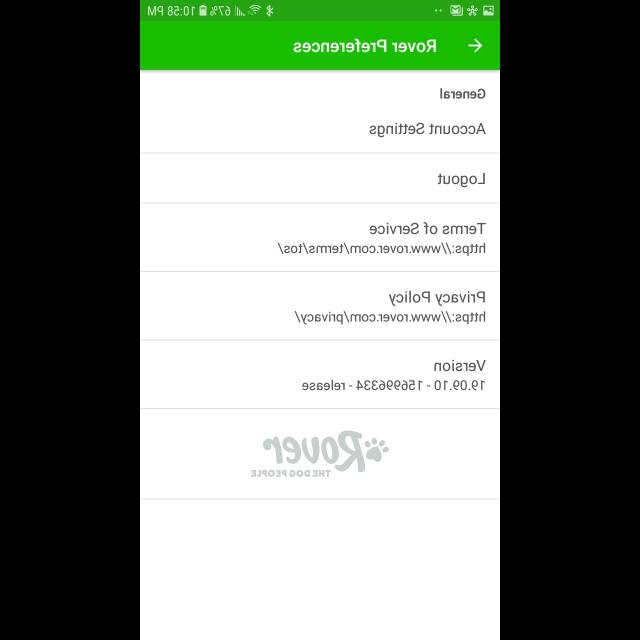icon: (468, 38, 482, 54)
image: (251, 430, 389, 478)
text: (276, 242, 486, 256), (294, 311, 486, 325), (292, 38, 436, 54), (369, 122, 486, 138), (302, 380, 484, 390), (388, 291, 484, 307), (369, 222, 485, 235), (437, 174, 485, 188), (434, 360, 486, 372), (439, 88, 485, 100)
uppertaskbar: (140, 1, 500, 22)
